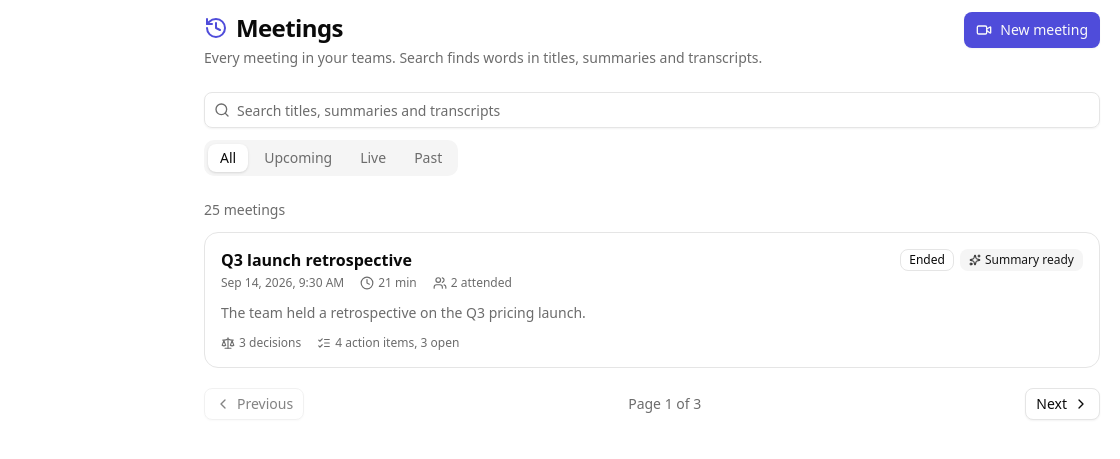
Test case: <MeetingsPage /> › pages through long histories
expect the text "Page 1 of 3" is shown: met, box [628,394,701,414]
expect the button "Previous" is disabled: met, box [204,388,304,420]
Click the button "Next": (1063, 404) [1025,388,1100,420]
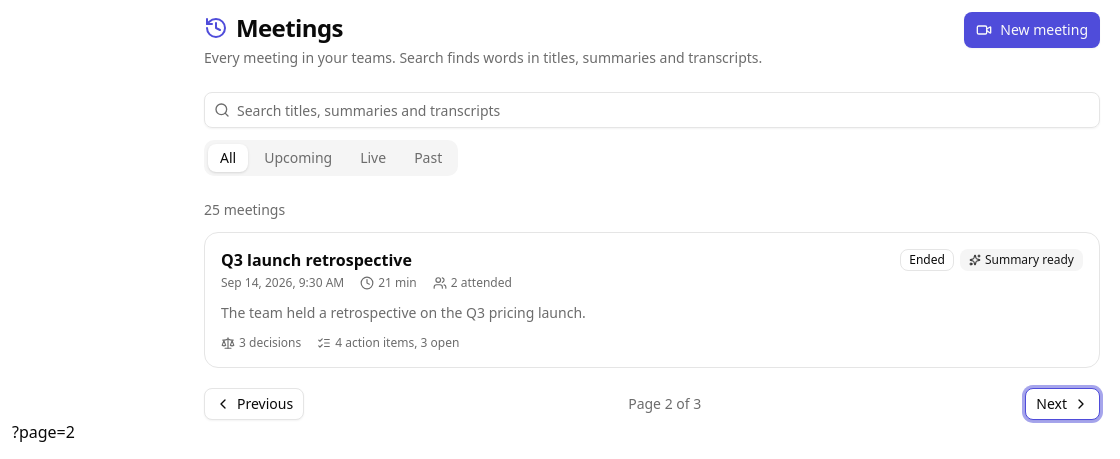
expect the text "Page 2 of 3" is shown: met, box [628,394,701,414]
